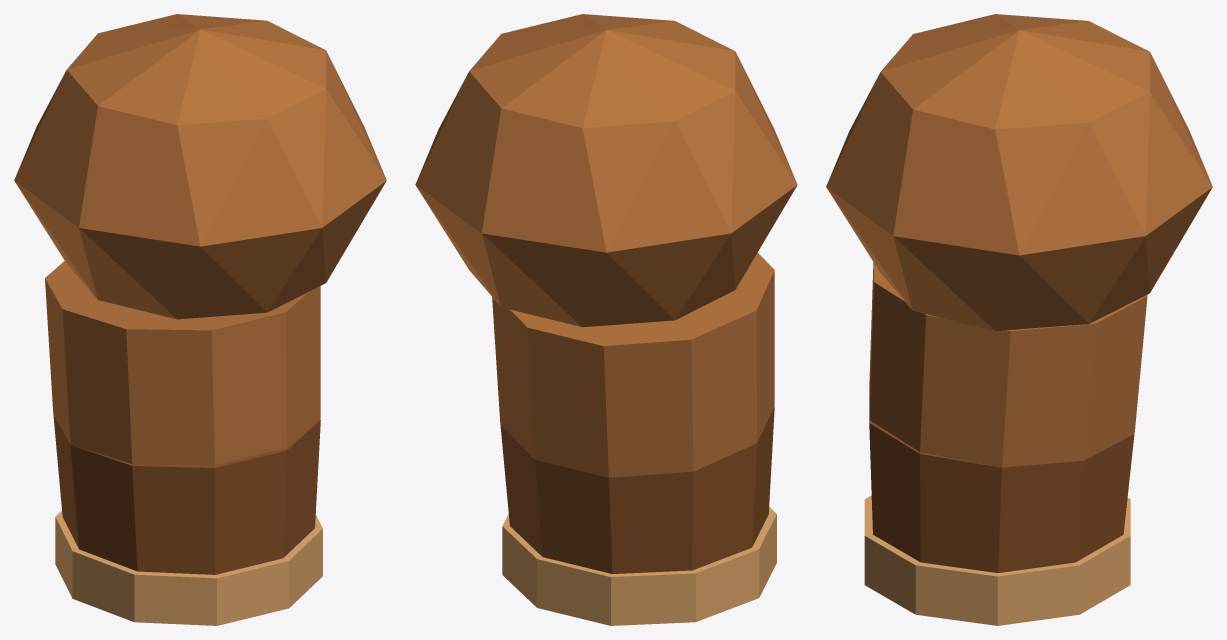
File: gear_bronze_chainbody_arm_l.glb
The picture shows the model from 3 angles, left to right: view 1: azimuth 30°, elevation 25°; view 2: azimuth 150°, elevation 25°; view 3: azimuth 270°, elevation 25°; orthographic projection. The views are drawn at different scales.
Visible parts, largest first — view 1: gear_bronze_chainbody_arm_l; view 2: gear_bronze_chainbody_arm_l; view 3: gear_bronze_chainbody_arm_l.
Boxes of the visible parts, x1,y1,x2,y2 form: gear_bronze_chainbody_arm_l: (14,14,386,625); gear_bronze_chainbody_arm_l: (415,14,797,625); gear_bronze_chainbody_arm_l: (826,14,1212,625).
Size of the model in its own units: 0.1746 by 0.277 by 0.1773.
